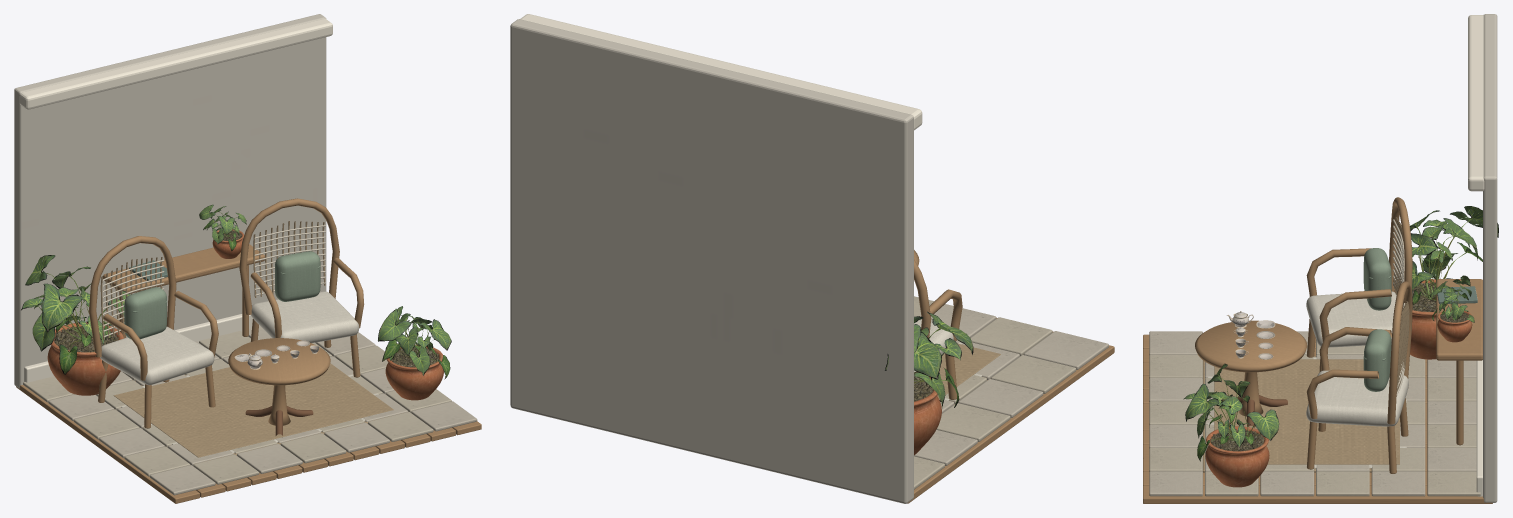
File: sunroom.glb
3 renders of one model, left to right at view 1: azimuth 30°, elevation 25°; view 2: azimuth 150°, elevation 25°; view 3: azimuth 270°, elevation 25°, orthographic. The views are drawn at different scales.
Parts seen in each view (by area): view 1: sunroom__Ivory plaster.001, sunroom__Oak joinery.003, sunroom__Rug braid.003, sunroom__Sunroom tile, sunroom__Warm limestone.001, sunroom__potted_plant_02_leaves, sunroom__Ivory textile.003, sunroom__Painted cream.003, sunroom__potted_plant_02_pot, sunroom__Sage textile.002, sunroom__Linen.003, sunroom__tea_set_01 (+1 smaller); view 2: sunroom__Ivory plaster.001, sunroom__Warm limestone.001, sunroom__Sunroom tile, sunroom__Oak joinery.003, sunroom__Painted cream.003, sunroom__potted_plant_02_leaves, sunroom__potted_plant_02_pot, sunroom__Rug braid.003; view 3: sunroom__Oak joinery.003, sunroom__Warm limestone.001, sunroom__Sunroom tile, sunroom__Rug braid.003, sunroom__potted_plant_02_leaves, sunroom__Ivory plaster.001, sunroom__Ivory textile.003, sunroom__potted_plant_02_pot, sunroom__Painted cream.003, sunroom__Sage textile.002, sunroom__tea_set_01, sunroom__Linen.003 (+2 smaller).
Boxes of the visible parts, left/top/right/bottom form: sunroom__Ivory plaster.001: left=14, top=14, right=326, bottom=388; sunroom__Oak joinery.003: left=16, top=198, right=481, bottom=503; sunroom__Rug braid.003: left=100, top=221, right=404, bottom=464; sunroom__Sunroom tile: left=23, top=331, right=451, bottom=484; sunroom__Warm limestone.001: left=48, top=326, right=477, bottom=495; sunroom__potted_plant_02_leaves: left=21, top=204, right=451, bottom=379; sunroom__Ivory textile.003: left=100, top=291, right=378, bottom=452; sunroom__Painted cream.003: left=19, top=18, right=332, bottom=382; sunroom__potted_plant_02_pot: left=47, top=229, right=443, bottom=400; sunroom__Sage textile.002: left=124, top=251, right=320, bottom=339; sunroom__Linen.003: left=103, top=225, right=325, bottom=444; sunroom__tea_set_01: left=234, top=340, right=319, bottom=369; sunroom__Ivory plaster.001: left=510, top=19, right=913, bottom=503; sunroom__Warm limestone.001: left=914, top=304, right=1108, bottom=465; sunroom__Sunroom tile: left=914, top=296, right=1076, bottom=489; sunroom__Oak joinery.003: left=907, top=250, right=1114, bottom=503; sunroom__Painted cream.003: left=520, top=14, right=922, bottom=130; sunroom__potted_plant_02_leaves: left=885, top=311, right=973, bottom=408; sunroom__potted_plant_02_pot: left=914, top=372, right=941, bottom=455; sunroom__Rug braid.003: left=937, top=343, right=1000, bottom=401; sunroom__Oak joinery.003: left=1143, top=197, right=1492, bottom=503; sunroom__Warm limestone.001: left=1149, top=331, right=1476, bottom=496; sunroom__Sunroom tile: left=1149, top=339, right=1480, bottom=496; sunroom__Rug braid.003: left=1203, top=217, right=1409, bottom=472; sunroom__potted_plant_02_leaves: left=1183, top=206, right=1498, bottom=461; sunroom__Ivory plaster.001: left=1483, top=14, right=1497, bottom=502; sunroom__Ivory textile.003: left=1208, top=291, right=1408, bottom=468; sunroom__potted_plant_02_pot: left=1205, top=279, right=1472, bottom=487; sunroom__Painted cream.003: left=1468, top=15, right=1484, bottom=496; sunroom__Sage textile.002: left=1363, top=248, right=1391, bottom=391; sunroom__tea_set_01: left=1227, top=311, right=1275, bottom=359; sunroom__Linen.003: left=1393, top=219, right=1405, bottom=395.
Bounding box in the file's own units: 2.86 × 2.5 × 2.47.
15 materials, 14 textured.
